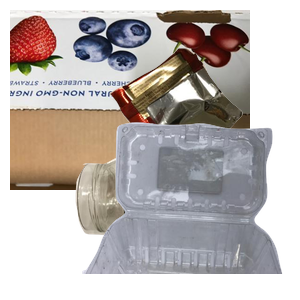cardboard: (10, 10, 250, 190)
glass: (73, 153, 284, 300)
plastic: (80, 120, 300, 300)
trash: (107, 46, 300, 198)
